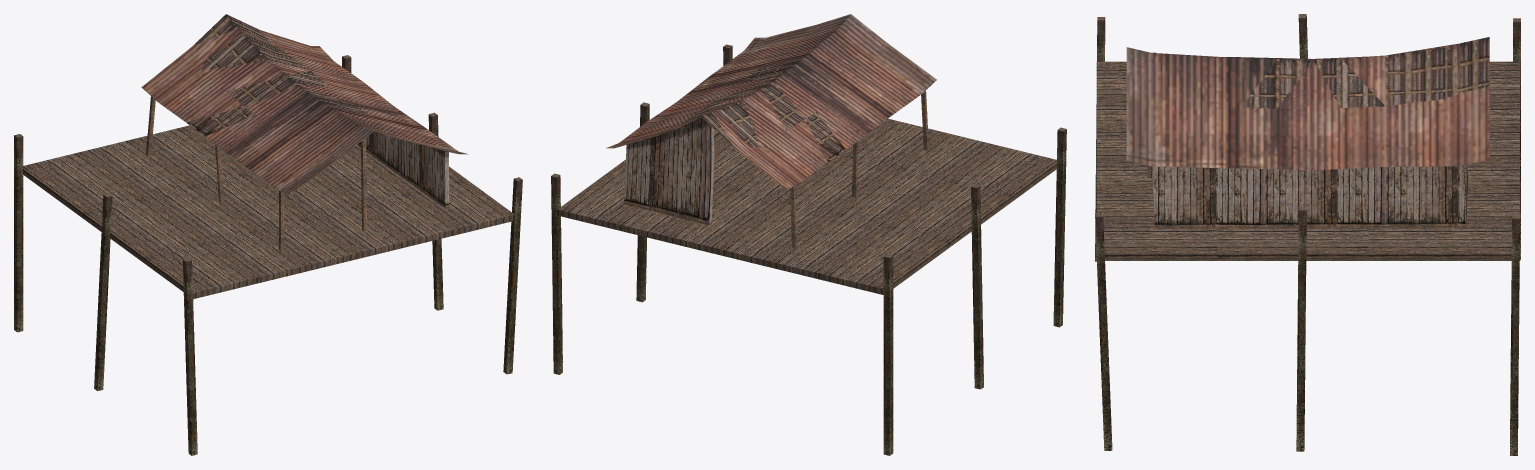
Rendered from PBld03.glb.
3 views of the same model, side by side, from view 1: azimuth 30°, elevation 25°; view 2: azimuth 150°, elevation 25°; view 3: azimuth 270°, elevation 25° (orthographic). The views are drawn at different scales.
Visible parts, largest first — view 1: _PBld03; view 2: _PBld03; view 3: _PBld03.
Boxes of the visible parts, x1,y1,x2,y2 form: _PBld03: [14, 14, 522, 455]; _PBld03: [551, 14, 1066, 455]; _PBld03: [1095, 14, 1520, 455].
Size of the model in its own units: 16.01 by 12.4 by 14.09.
5 materials, 5 textured.
